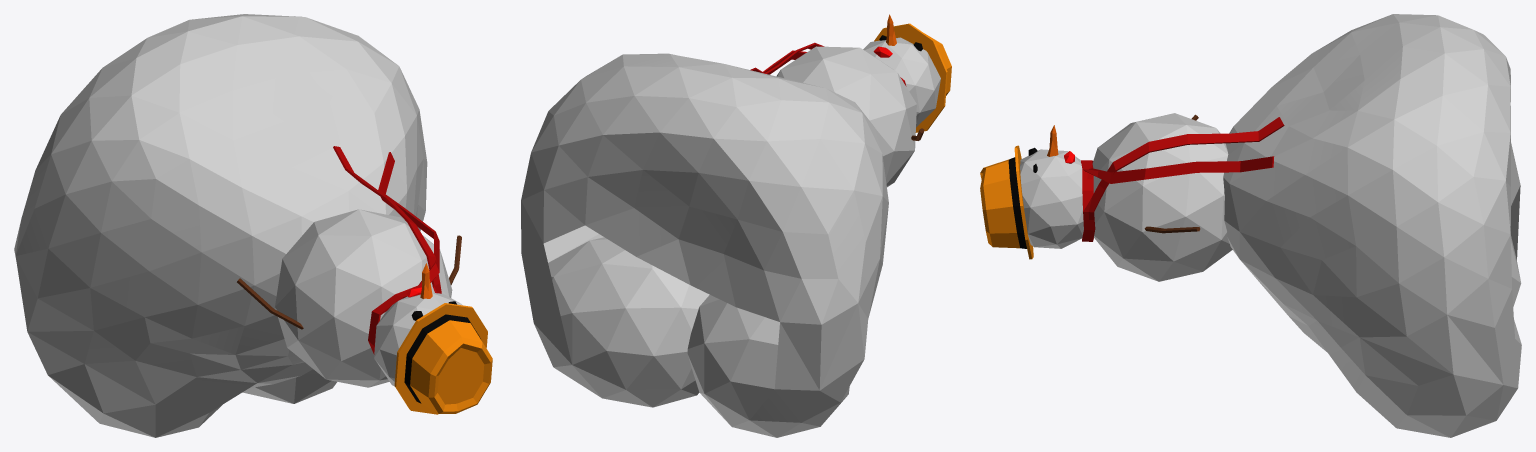
3 views of the same model, side by side, from view 1: azimuth 30°, elevation 25°; view 2: azimuth 150°, elevation 25°; view 3: azimuth 270°, elevation 25° (orthographic). The views are drawn at different scales.
Visible parts, largest first — view 1: Icosphere; view 2: Icosphere; view 3: Icosphere.
Boxes of the visible parts, x1,y1,x2,y2 form: Icosphere: (14, 14, 492, 437); Icosphere: (521, 14, 951, 437); Icosphere: (980, 14, 1521, 437).
Bounding box in the file's own units: 2.21 × 2.13 × 2.91.
Materials: 1 (1 with a texture image).
